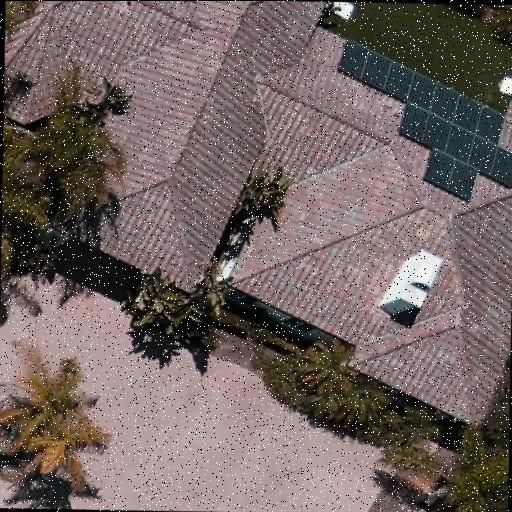solar-panel: (336, 38, 512, 201)
